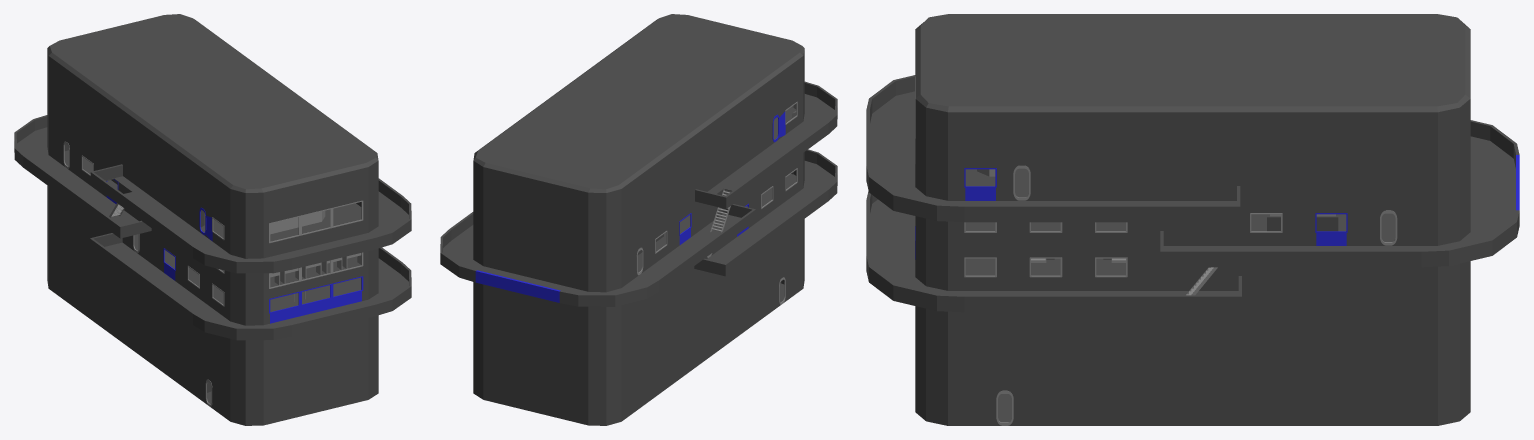
Rendered from Control_Tower_DUMMY.fbx.
3 views of the same model, side by side, from view 1: azimuth 30°, elevation 25°; view 2: azimuth 150°, elevation 25°; view 3: azimuth 270°, elevation 25° (orthographic). The views are drawn at different scales.
Parts seen in each view (by area): view 1: polySurface26, polySurface124, polySurface20, polySurface280, polySurface120, polySurface275, polySurface121, polySurface118, polySurface123, polySurface338, polySurface333, polySurface368 (+4 smaller); view 2: polySurface26, polySurface124, polySurface20, polySurface280, polySurface118, polySurface123, polySurface338, polySurface120, polySurface275, polySurface121; view 3: polySurface26, polySurface124, polySurface20, polySurface280, polySurface118, polySurface121, polySurface338, polySurface275, polySurface123, polySurface120, polySurface344, polySurface333 (+1 smaller).
Boxes of the visible parts, bbox=[...] form: polySurface26: bbox=[47, 14, 378, 192]; polySurface124: bbox=[47, 48, 378, 258]; polySurface20: bbox=[47, 215, 378, 392]; polySurface280: bbox=[47, 248, 378, 425]; polySurface120: bbox=[90, 233, 411, 340]; polySurface275: bbox=[90, 164, 411, 273]; polySurface121: bbox=[48, 186, 378, 325]; polySurface118: bbox=[47, 185, 378, 359]; polySurface123: bbox=[14, 115, 151, 238]; polySurface338: bbox=[47, 115, 378, 292]; polySurface333: bbox=[134, 234, 361, 311]; polySurface368: bbox=[201, 203, 361, 241]; polySurface26: bbox=[473, 14, 804, 192]; polySurface124: bbox=[473, 48, 804, 259]; polySurface20: bbox=[473, 219, 804, 392]; polySurface280: bbox=[473, 248, 804, 425]; polySurface118: bbox=[473, 219, 803, 359]; polySurface123: bbox=[440, 204, 755, 306]; polySurface338: bbox=[473, 152, 803, 292]; polySurface120: bbox=[694, 149, 837, 276]; polySurface275: bbox=[695, 81, 837, 208]; polySurface121: bbox=[473, 152, 804, 326]; polySurface26: bbox=[915, 14, 1470, 112]; polySurface124: bbox=[915, 99, 1470, 201]; polySurface20: bbox=[915, 323, 1470, 381]; polySurface280: bbox=[915, 368, 1470, 425]; polySurface118: bbox=[915, 278, 1470, 336]; polySurface121: bbox=[915, 233, 1470, 291]; polySurface338: bbox=[915, 188, 1470, 246]; polySurface275: bbox=[866, 75, 1240, 222]; polySurface123: bbox=[1160, 120, 1519, 267]; polySurface120: bbox=[866, 191, 1241, 312]; polySurface344: bbox=[965, 213, 1395, 241]; polySurface333: bbox=[965, 258, 1125, 275].
Size of the model in its own units: 20.04 by 21.5 by 40.1.
